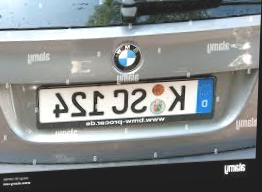License_Plate: (36, 79, 216, 130)
